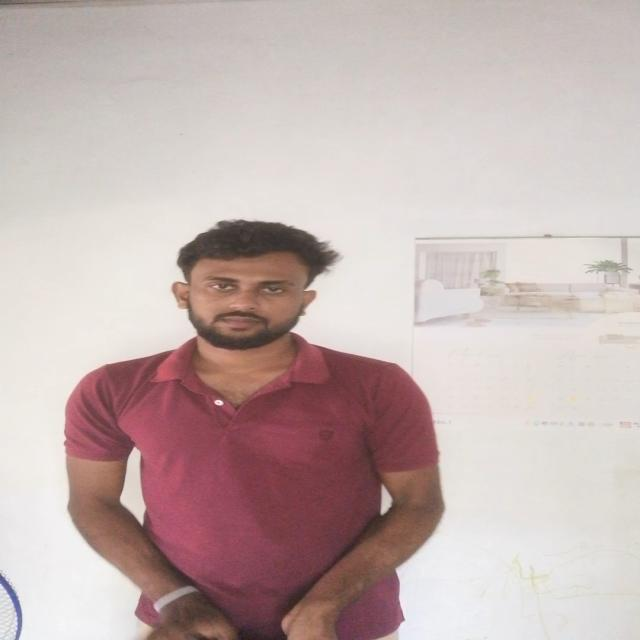Person: (68, 216, 434, 640)
